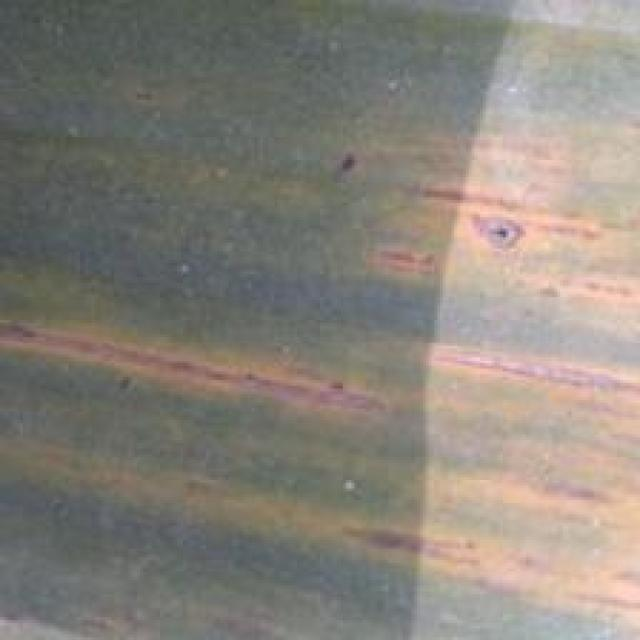Early_leaf_spot: (0, 297, 389, 434), (343, 157, 640, 320), (303, 480, 640, 591), (400, 312, 640, 413)
